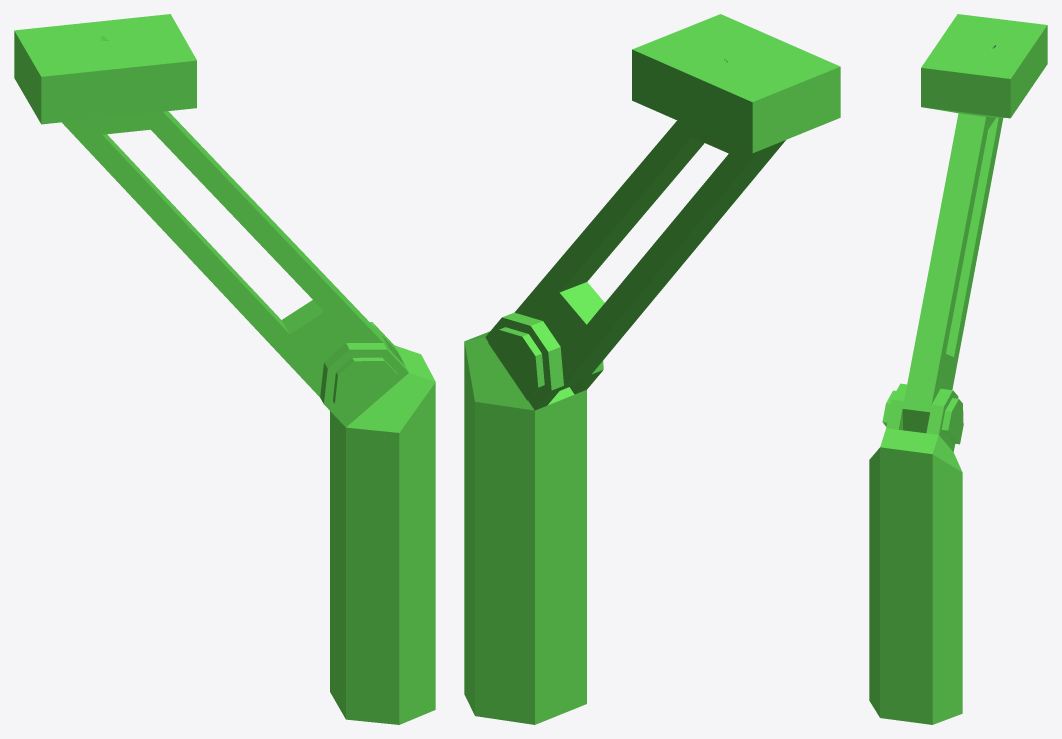
The model's file is Operation_Lamp.fbx.
3 renders of one model, left to right at view 1: azimuth 30°, elevation 25°; view 2: azimuth 150°, elevation 25°; view 3: azimuth 270°, elevation 25°, orthographic. The views are drawn at different scales.
Parts seen in each view (by area): view 1: Operation_Lamp_Lag_A, Operation_Lamp_Lag_B; view 2: Operation_Lamp_Lag_A, Operation_Lamp_Lag_B; view 3: Operation_Lamp_Lag_A, Operation_Lamp_Lag_B.
Part boxes in pixels (box(x1,y1,x2,y2)): Operation_Lamp_Lag_A: box(320, 322, 435, 724); Operation_Lamp_Lag_B: box(14, 14, 388, 396); Operation_Lamp_Lag_A: box(464, 312, 603, 724); Operation_Lamp_Lag_B: box(514, 14, 840, 390); Operation_Lamp_Lag_A: box(869, 383, 963, 724); Operation_Lamp_Lag_B: box(902, 14, 1047, 433).
Size of what is drawn, in the model's own units: 53.02 by 95.51 by 27.16.
